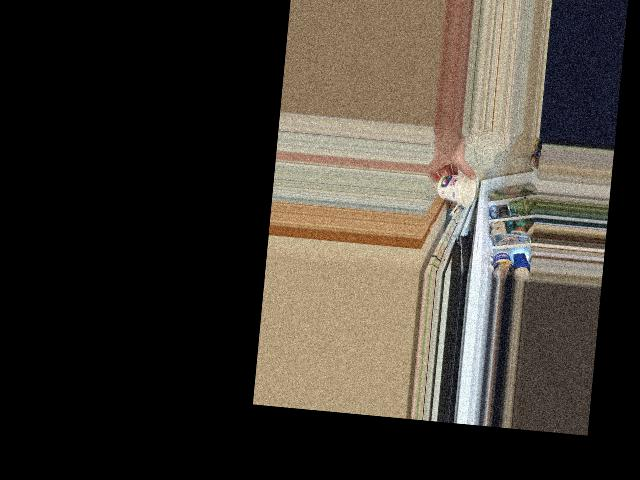cotage: (436, 172, 478, 206)
